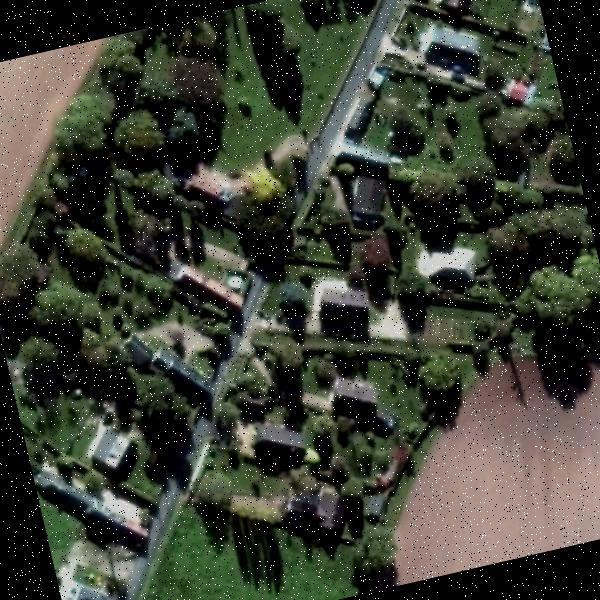Buildings: (34, 451, 123, 540), (177, 253, 249, 323), (424, 17, 486, 82), (312, 276, 372, 332), (428, 242, 482, 298), (247, 416, 307, 466), (292, 484, 346, 538), (62, 562, 125, 600), (88, 430, 134, 470), (345, 179, 387, 218), (428, 0, 489, 12)
